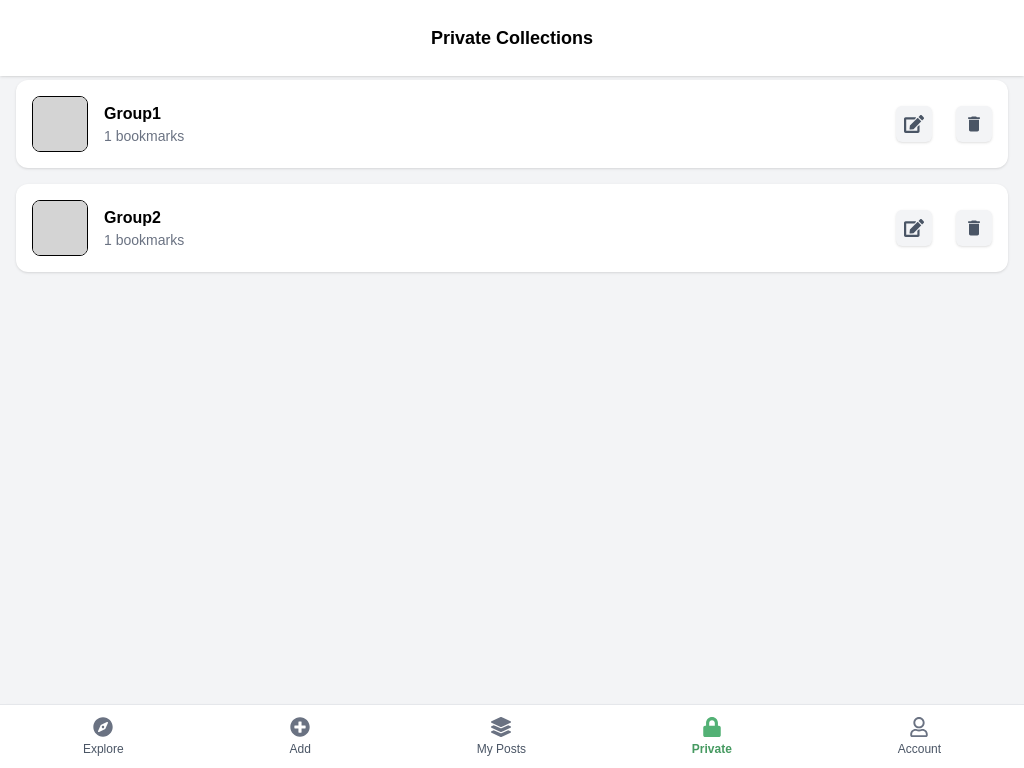
Scenario: PrivateCollectionsPage › opens delete modal when delete button is clicked
Click the 2nd button.
click(974, 124)  # box [956, 106, 992, 142]
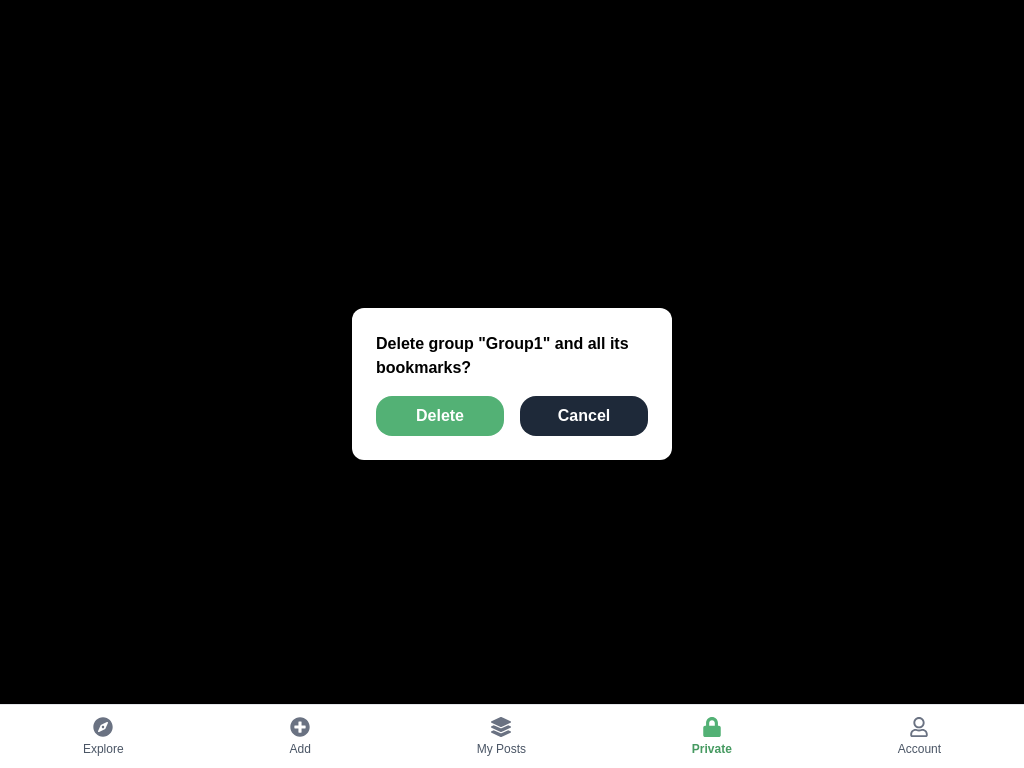
Check: the text "Delete group \"Group1\" and all its bookmarks?" is shown, box [376, 332, 648, 380]
